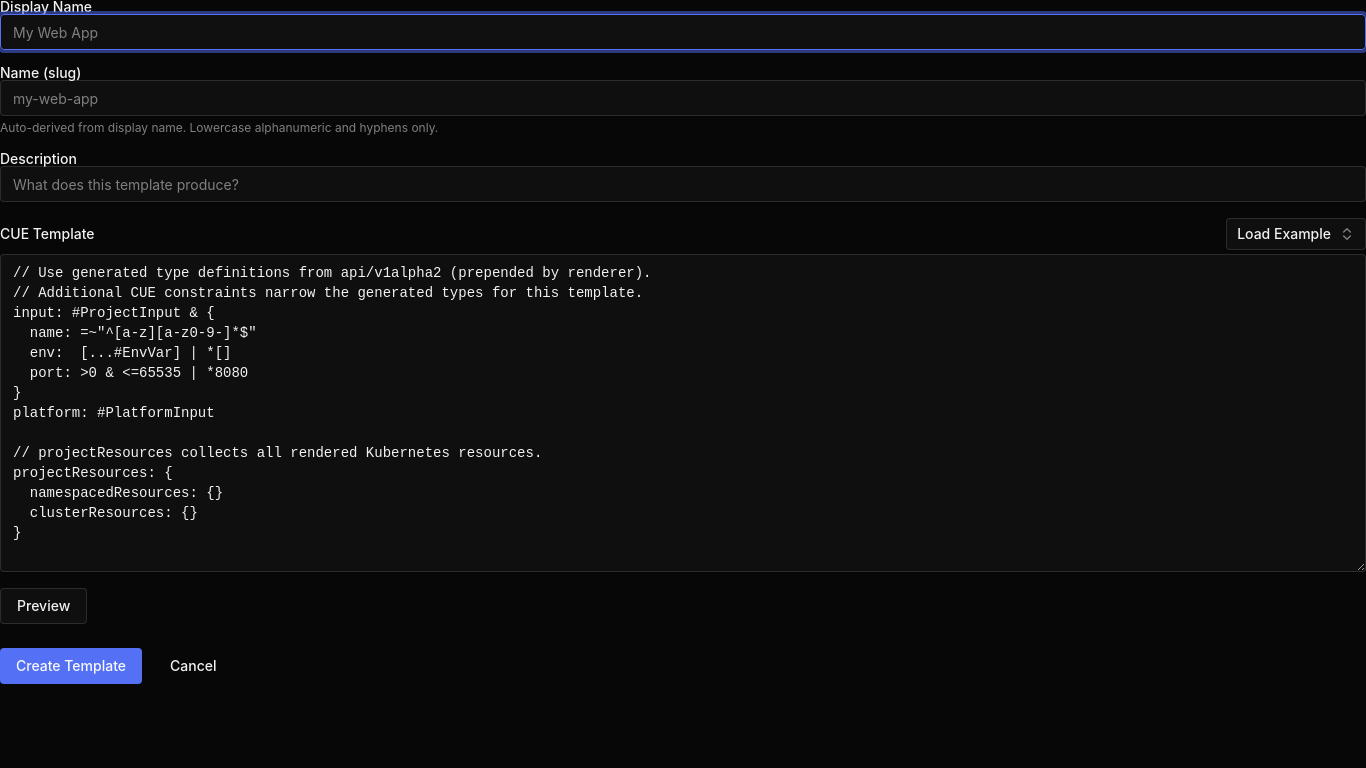
Scenario: TemplateCreateForm — shared behavior › selecting an example populates all four fields (project)
Click the dropdown labelled "Load Example".
click(1296, 234)  # box [1226,218,1365,250]
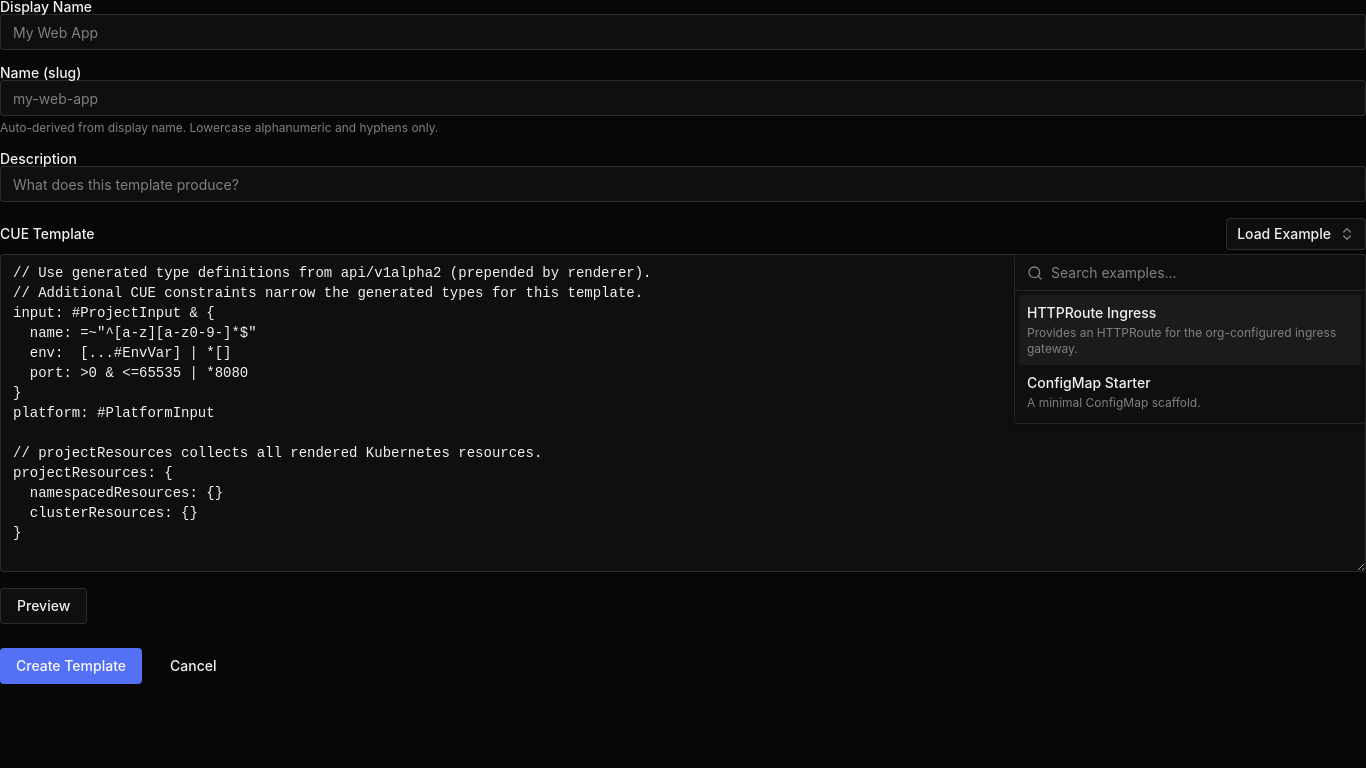
Click the text "HTTPRoute Ingress".
click(1092, 313)  # box [1027,303,1156,323]
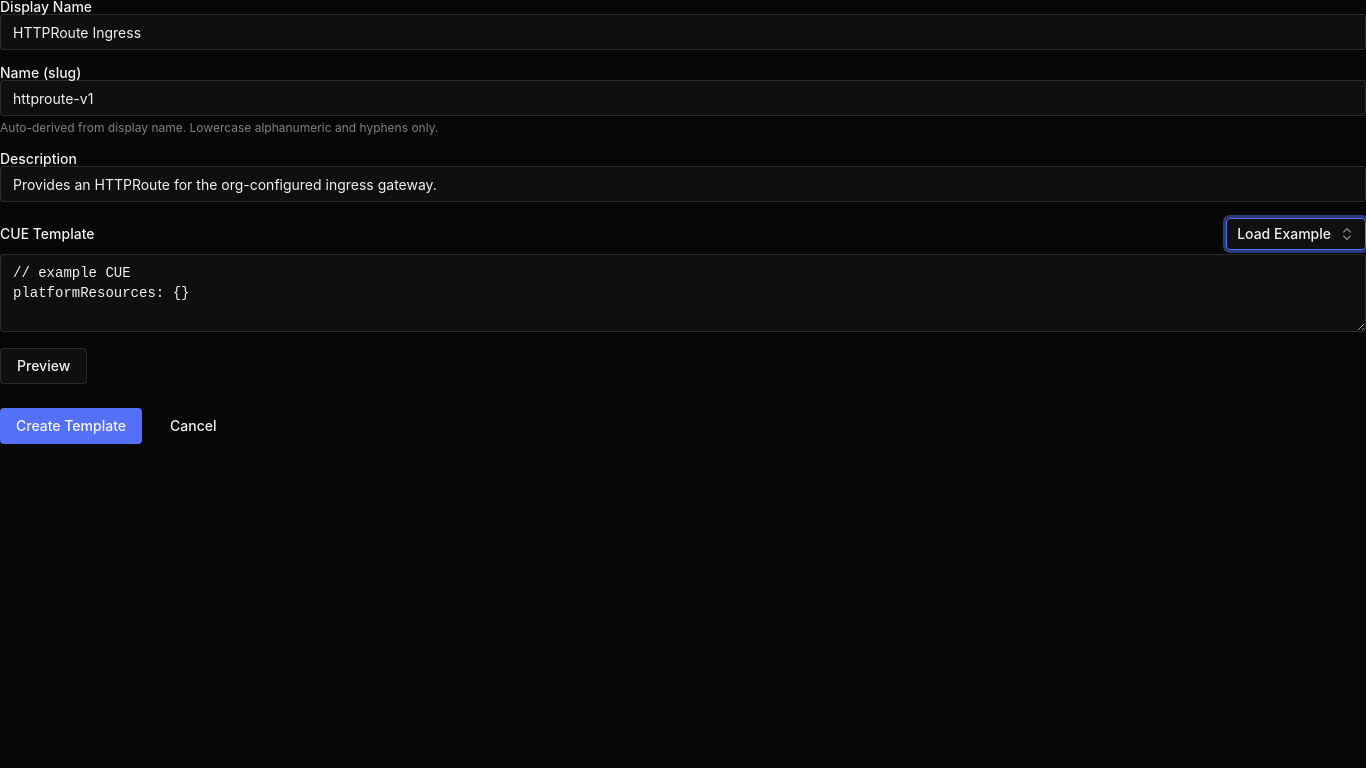
Expected: the field labelled "Display Name" holds "HTTPRoute Ingress", [0,14,1365,50]
Expected: the field named "name slug" holds "httproute-v1", [0,80,1365,116]
Expected: the field labelled "Description" holds "Provides an HTTPRoute for the org-configured ingress gateway.", [0,166,1365,202]
